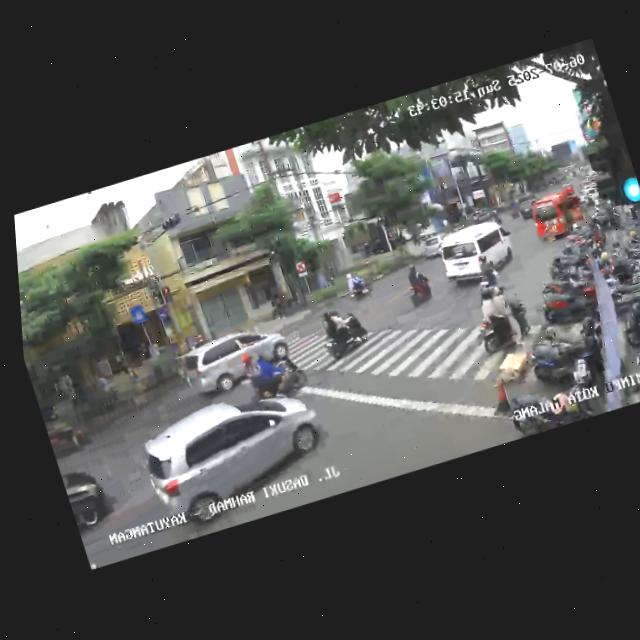car: (132, 374, 342, 541), (181, 317, 294, 402), (433, 217, 518, 290), (60, 454, 132, 538), (527, 186, 595, 247)
motorcycle: (225, 337, 312, 413), (464, 280, 536, 359), (311, 300, 376, 373), (40, 399, 96, 464), (398, 260, 439, 311), (465, 248, 505, 300), (340, 265, 372, 303)
